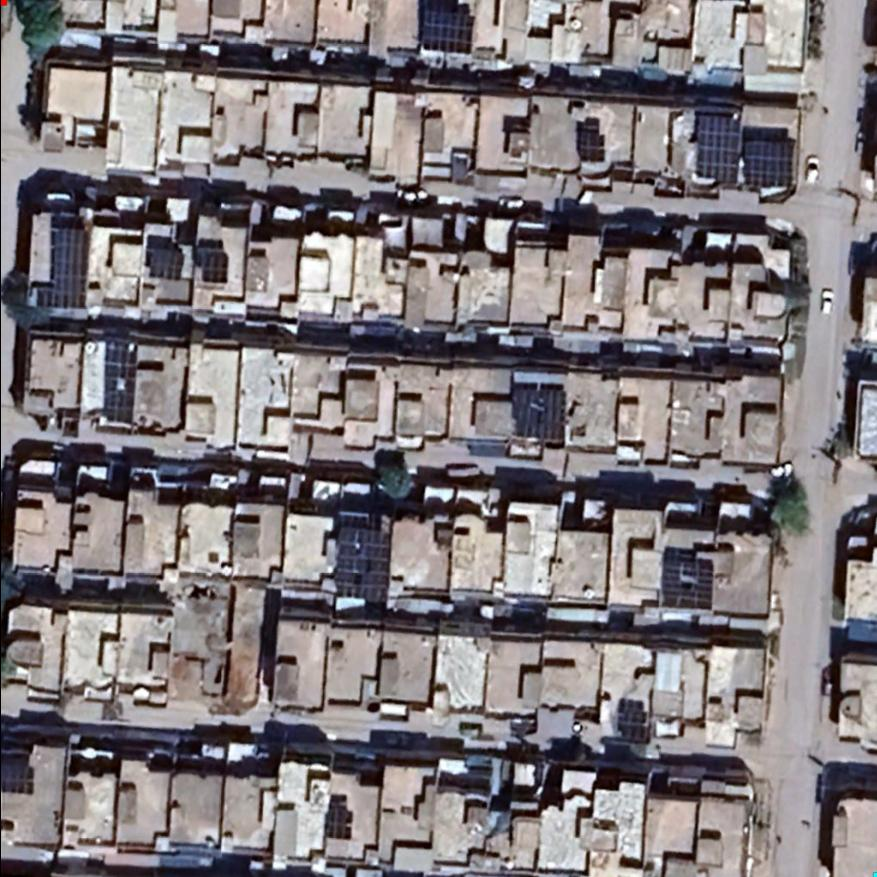Solarpanel: (690, 107, 803, 194), (33, 218, 93, 312), (326, 522, 393, 602), (506, 379, 569, 450), (101, 339, 142, 435), (656, 545, 716, 610), (412, 1, 480, 55), (142, 236, 185, 285), (321, 796, 357, 842), (197, 243, 232, 289), (574, 125, 612, 166)
